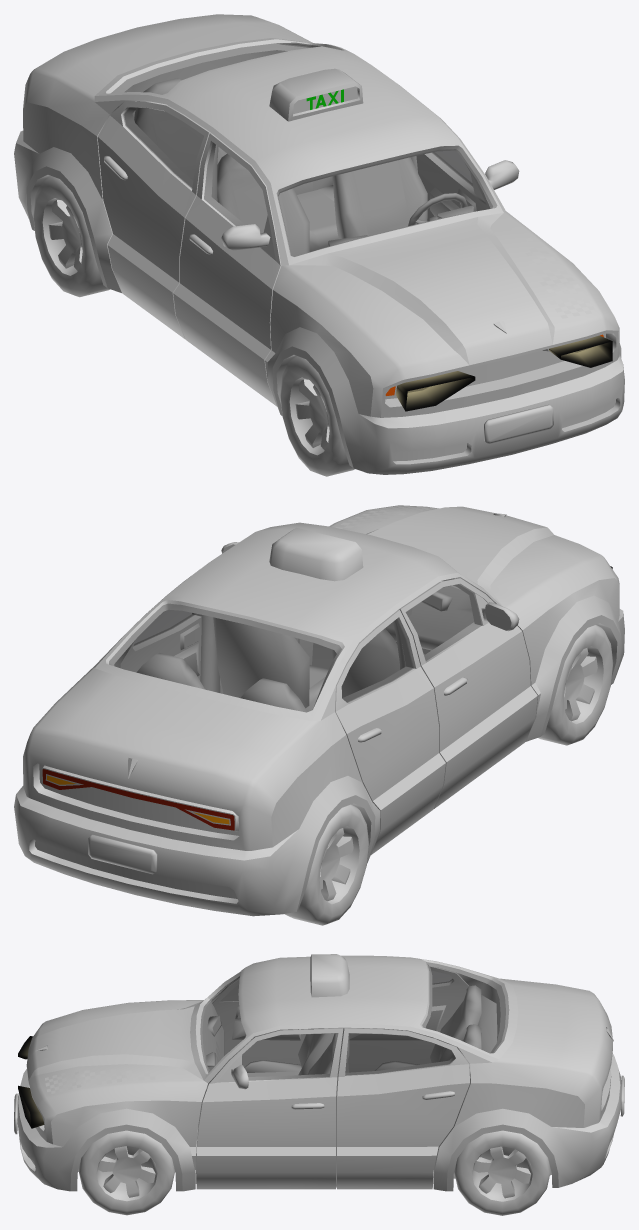
The model's file is TP_Taxi_01A.fbx.
3 views of the same model, one above another, from view 1: azimuth 30°, elevation 25°; view 2: azimuth 150°, elevation 25°; view 3: azimuth 270°, elevation 25° (orthographic). The views are drawn at different scales.
Visible parts, largest first — view 1: TP_Taxi_01A_Body, TP_Taxi_01A_Door_F.R, TP_Taxi_01A_Door_R.R, TP_Taxi_01A_Wheel_R.R, TP_Taxi_01A_Wheel_F.R, TP_Taxi_01A_Door_F.L, TP_Taxi_01A_Headlights; view 2: TP_Taxi_01A_Body, TP_Taxi_01A_Door_F.R, TP_Taxi_01A_Door_R.R, TP_Taxi_01A_Wheel_R.R, TP_Taxi_01A_Wheel_F.R, TP_Taxi_01A_Door_R.L, TP_Taxi_01A_Taillights; view 3: TP_Taxi_01A_Body, TP_Taxi_01A_Door_F.L, TP_Taxi_01A_Door_R.L, TP_Taxi_01A_Wheel_R.L, TP_Taxi_01A_Wheel_F.L, TP_Taxi_01A_Door_R.R, TP_Taxi_01A_Door_F.R, TP_Taxi_01A_Headlights.
Boxes of the visible parts, left/top/right/bottom form: TP_Taxi_01A_Body: left=14, top=14, right=624, bottom=474; TP_Taxi_01A_Door_F.R: left=173, top=133, right=281, bottom=406; TP_Taxi_01A_Door_R.R: left=97, top=101, right=211, bottom=338; TP_Taxi_01A_Wheel_R.R: left=33, top=176, right=109, bottom=297; TP_Taxi_01A_Wheel_F.R: left=280, top=356, right=354, bottom=476; TP_Taxi_01A_Door_F.L: left=416, top=151, right=519, bottom=220; TP_Taxi_01A_Headlights: left=396, top=335, right=612, bottom=411; TP_Taxi_01A_Body: left=14, top=505, right=624, bottom=916; TP_Taxi_01A_Door_F.R: left=399, top=578, right=537, bottom=808; TP_Taxi_01A_Door_R.R: left=335, top=609, right=445, bottom=854; TP_Taxi_01A_Wheel_R.R: left=284, top=804, right=368, bottom=925; TP_Taxi_01A_Wheel_F.R: left=538, top=625, right=613, bottom=745; TP_Taxi_01A_Door_R.L: left=120, top=610, right=201, bottom=680; TP_Taxi_01A_Taillights: left=42, top=769, right=234, bottom=830; TP_Taxi_01A_Body: left=14, top=954, right=624, bottom=1191; TP_Taxi_01A_Door_F.L: left=195, top=1028, right=343, bottom=1189; TP_Taxi_01A_Door_R.L: left=336, top=1028, right=470, bottom=1189; TP_Taxi_01A_Wheel_R.L: left=454, top=1130, right=550, bottom=1215; TP_Taxi_01A_Wheel_F.L: left=79, top=1130, right=174, bottom=1215; TP_Taxi_01A_Door_R.R: left=348, top=966, right=468, bottom=1072; TP_Taxi_01A_Door_F.R: left=212, top=979, right=307, bottom=1066; TP_Taxi_01A_Headlights: left=18, top=1036, right=44, bottom=1128.
Size of the model in its own units: 2.12 by 1.81 by 4.99.
